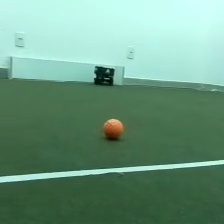ball: (100, 115, 126, 142)
goal: (6, 54, 127, 86)
robot: (91, 63, 116, 87)
